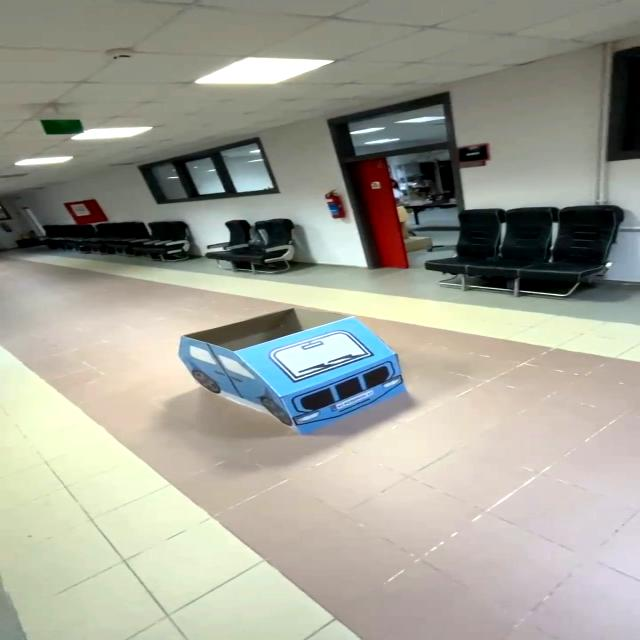blue_car: (153, 290, 429, 447)
